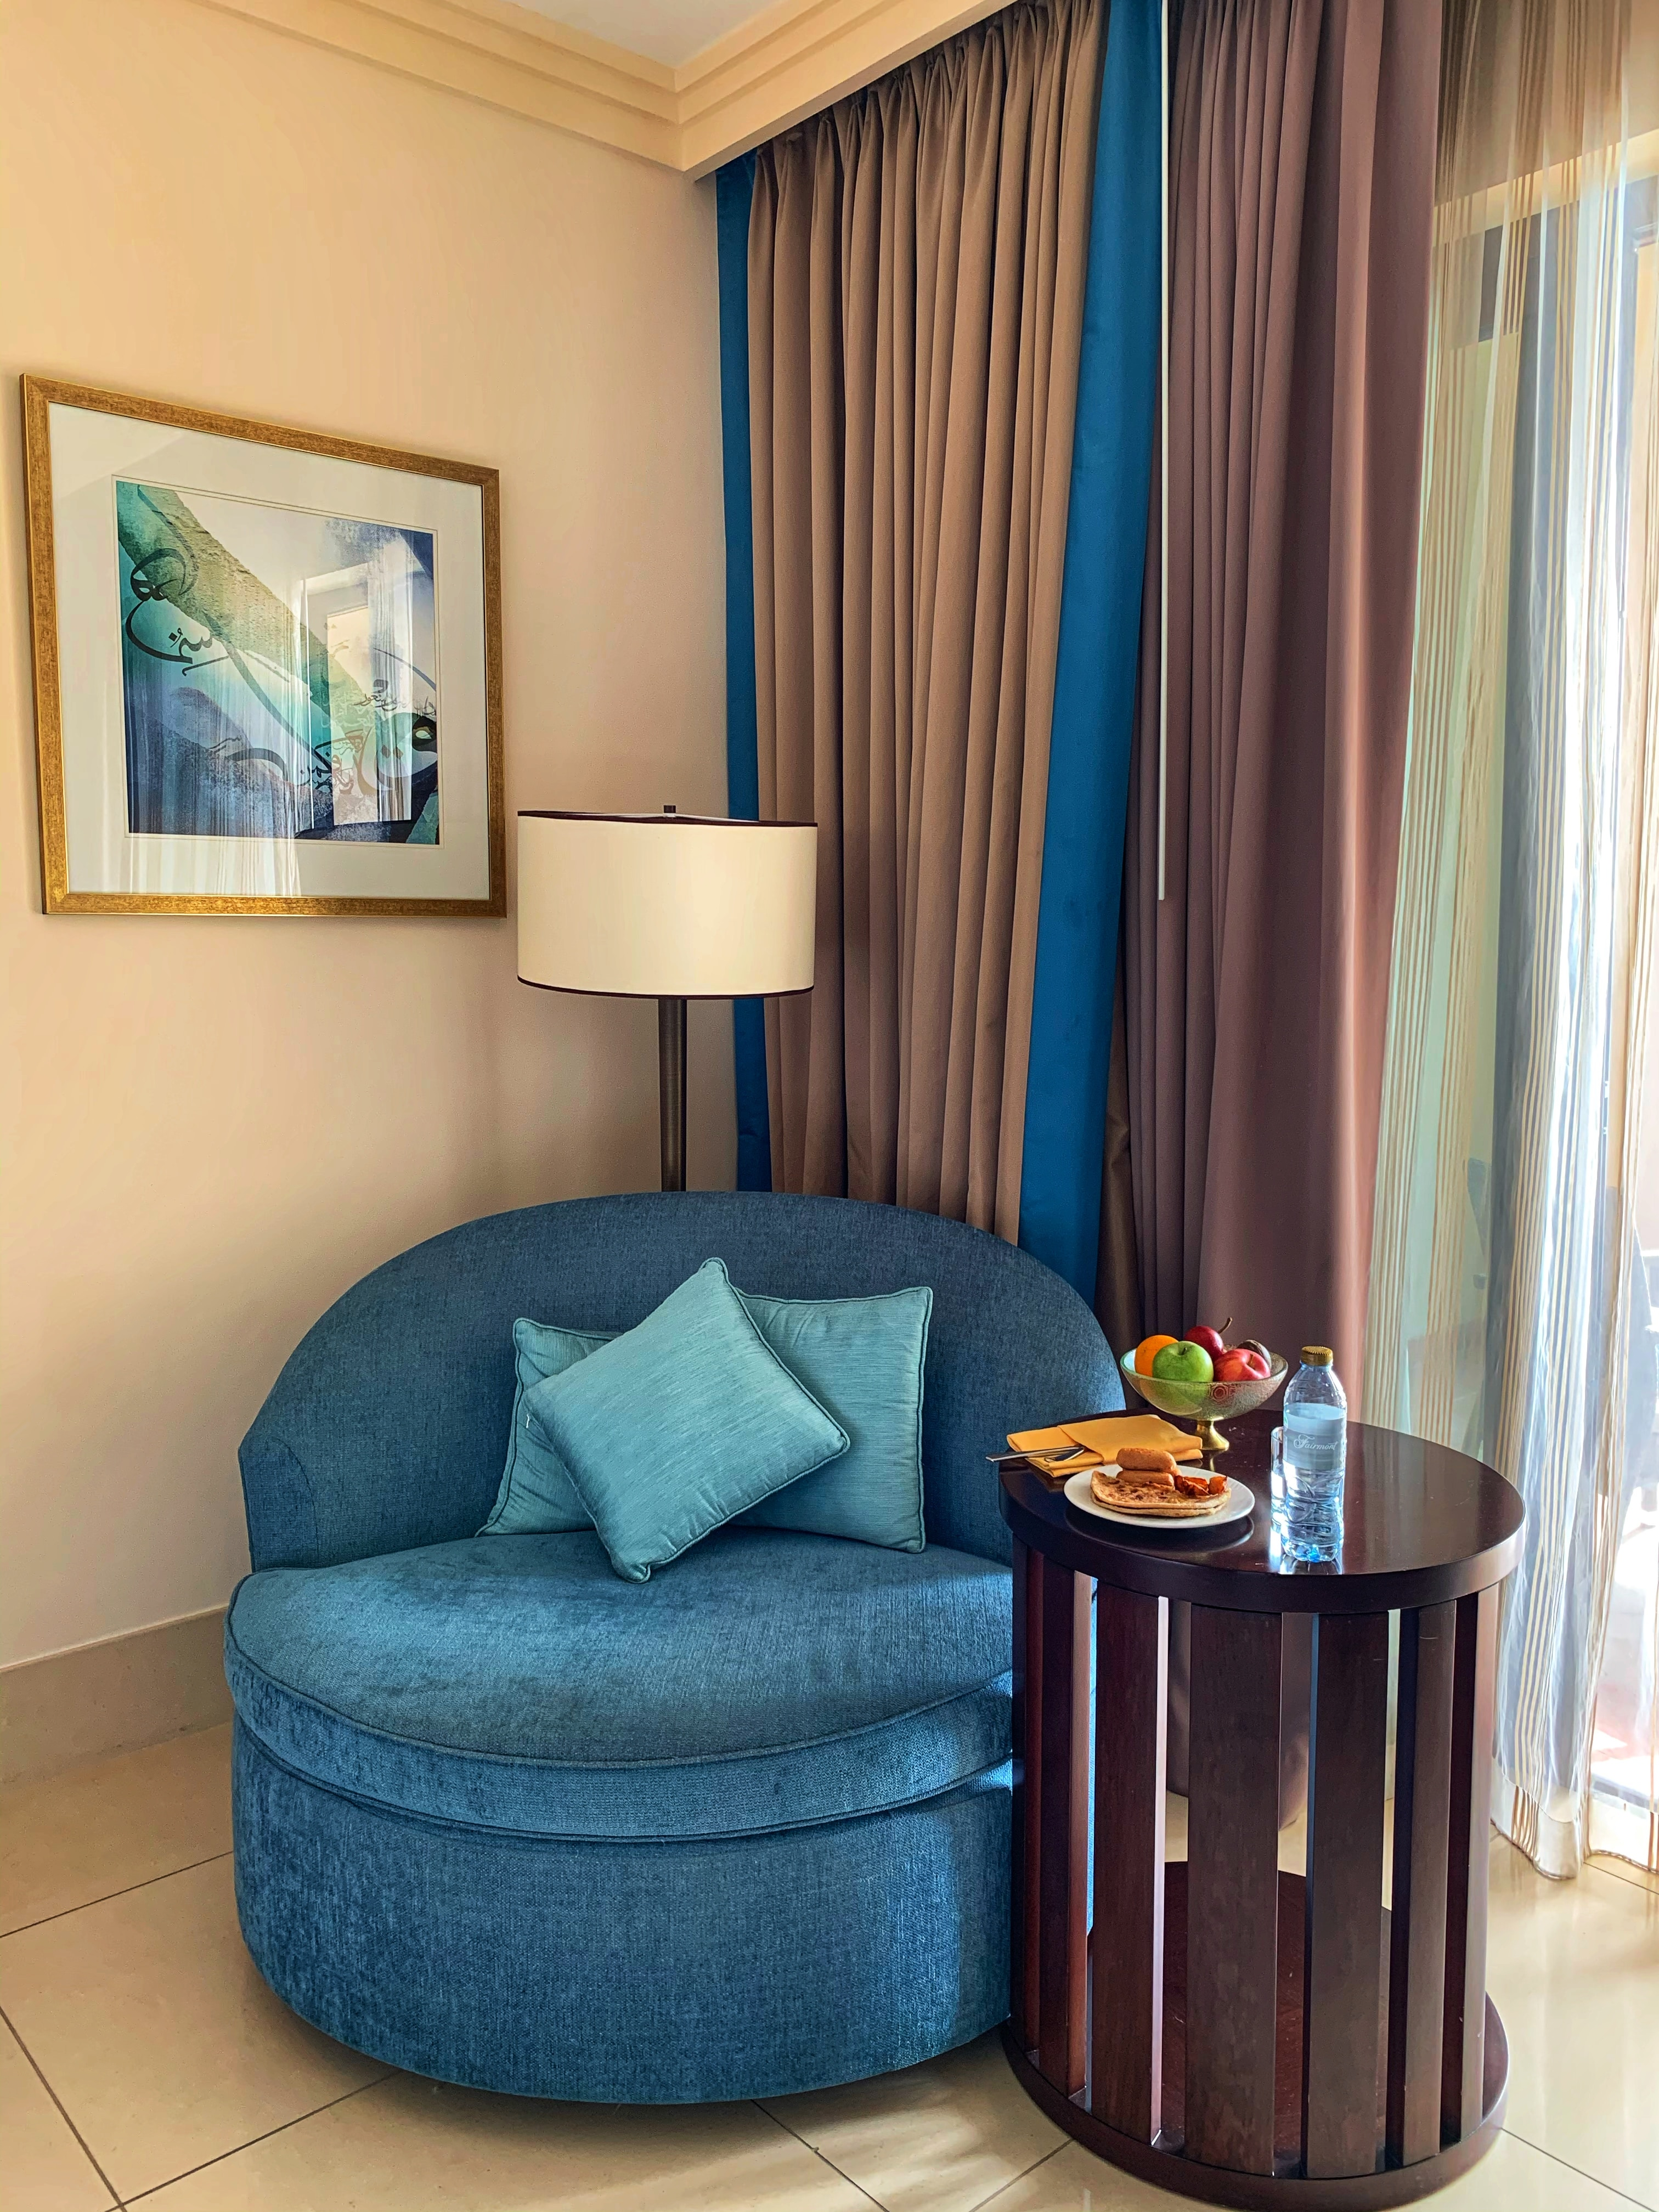Painting: (7, 354, 523, 930)
Sofa: (234, 1148, 1175, 2120)
Table: (997, 1388, 1511, 2205)
